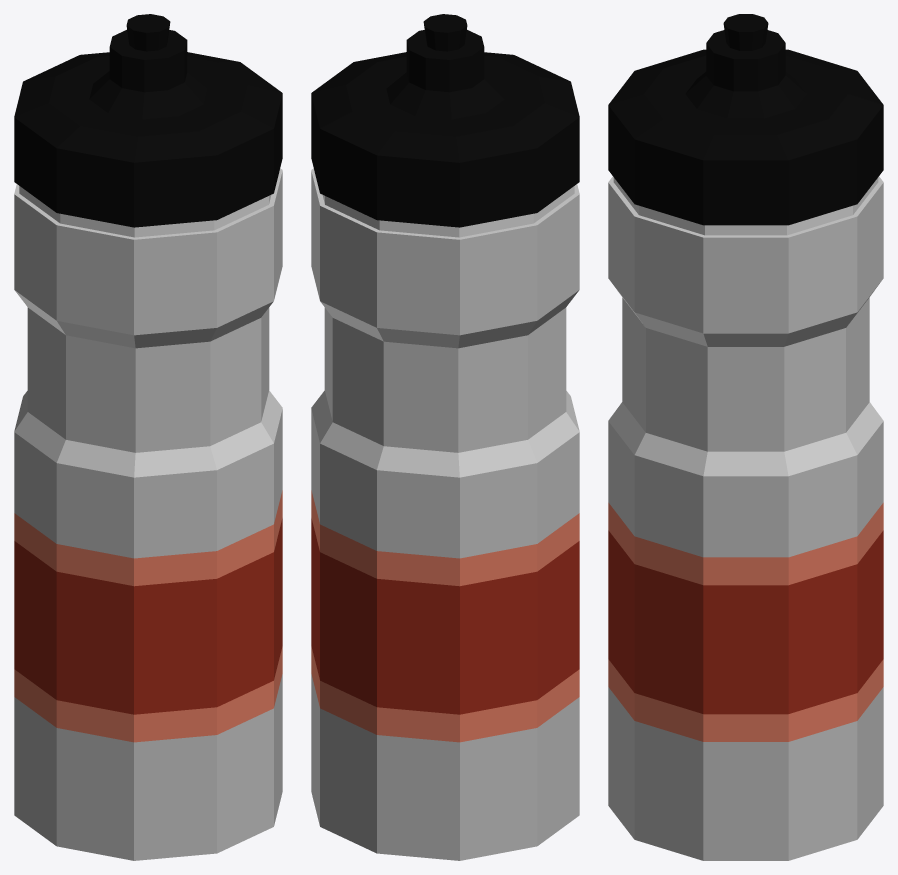
File: BottleV3.fbx
3 views of the same model, side by side, from view 1: azimuth 30°, elevation 25°; view 2: azimuth 150°, elevation 25°; view 3: azimuth 270°, elevation 25° (orthographic).
Parts seen in each view (by area): view 1: BottleV3; view 2: BottleV3; view 3: BottleV3.
Boxes of the visible parts, <box> form: BottleV3: <box>14,14,282,860</box>; BottleV3: <box>311,14,579,860</box>; BottleV3: <box>608,14,883,860</box>.
Size of the model in its own units: 8.74 by 28.78 by 9.18.
